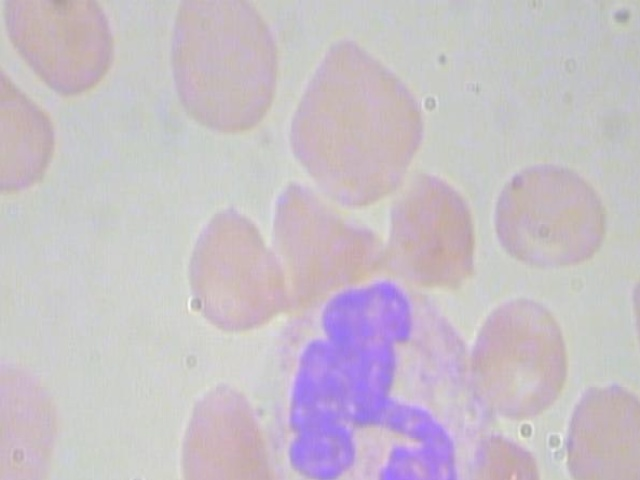RBC: (286, 29, 438, 218), (166, 177, 291, 335), (152, 0, 284, 138), (159, 341, 284, 480), (481, 158, 623, 278), (463, 294, 577, 428), (0, 0, 120, 104), (0, 341, 79, 480), (0, 58, 57, 203), (562, 378, 640, 480)
WBC: (256, 274, 497, 480)
